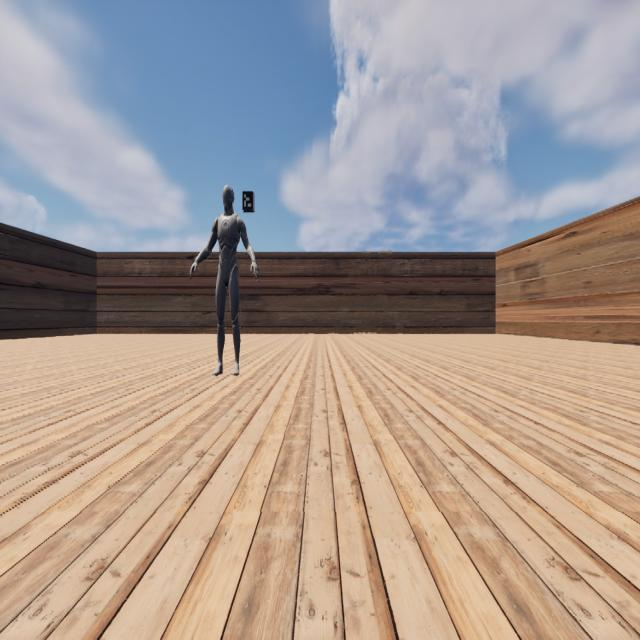aruco: (242, 191, 253, 210)
hip: (218, 264, 238, 272)
